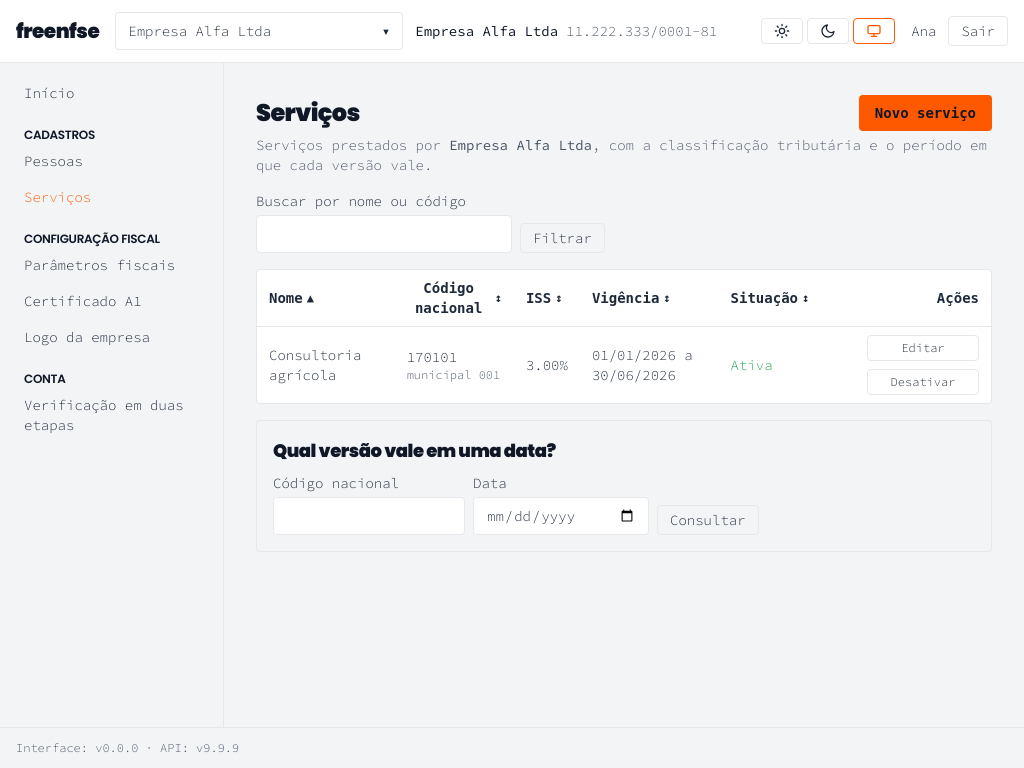
Serviços › consulta a versão vigente numa data
Expected: the text "Consultoria agrícola" is shown, left=257, top=327, right=395, bottom=403
In the field labelled "Código nacional": (369, 516) left=273, top=497, right=465, bottom=535, type "170101"
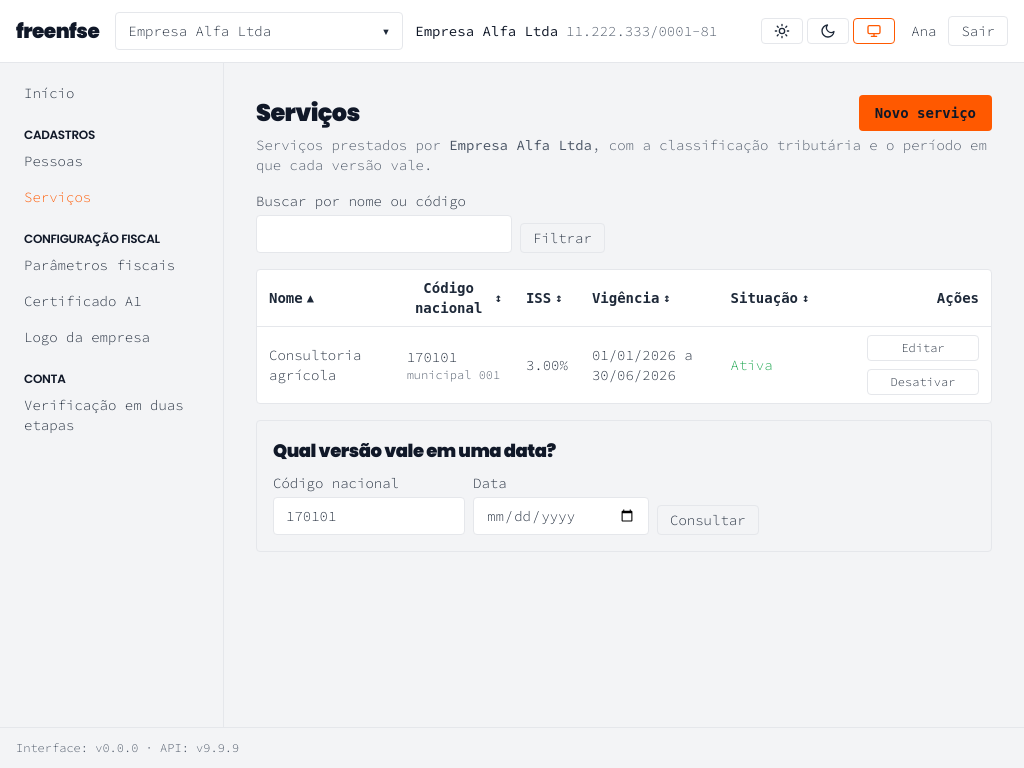
In the date field labelled "Data": (561, 516) left=473, top=497, right=649, bottom=535, type "2026-03-10"
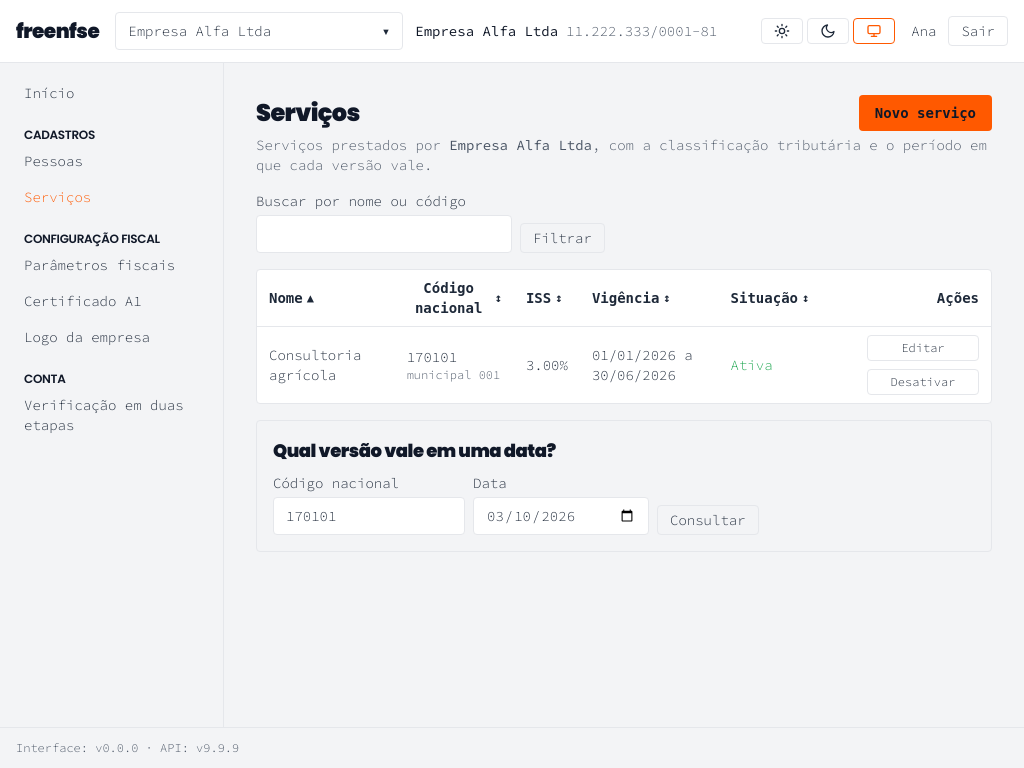
Click the button "Consultar": (708, 520) left=657, top=505, right=759, bottom=535
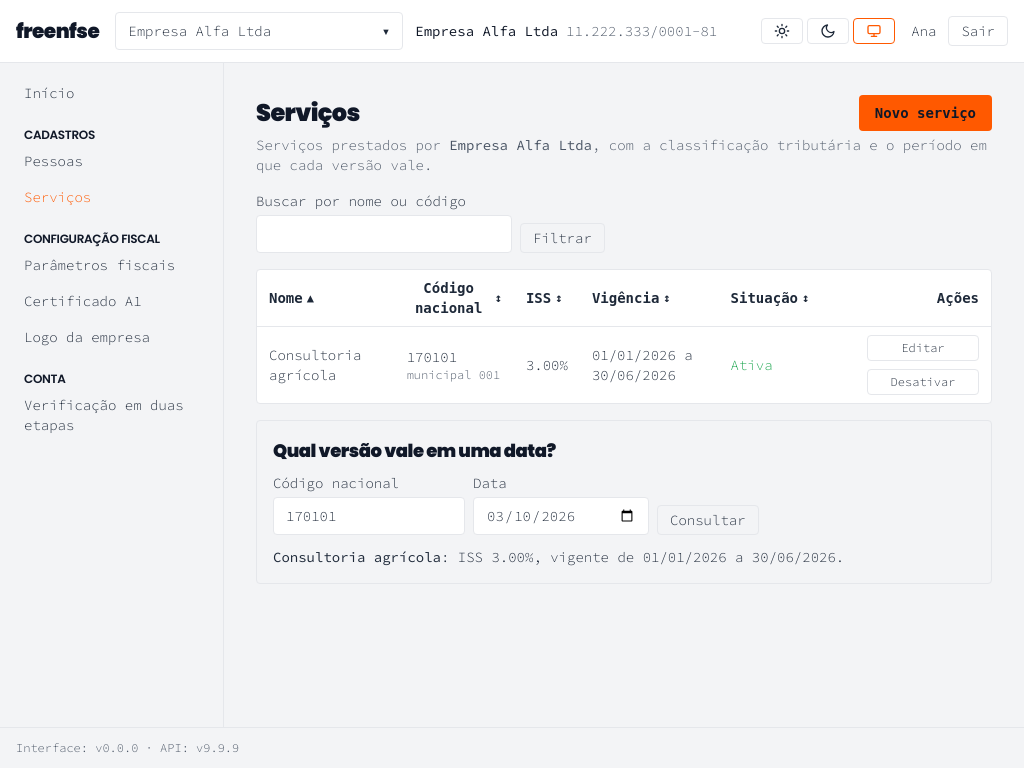
Result: the text "Consultoria agrícola: ISS 3.00%, vigente de 01/01/2026 a 30/06/2026." is shown at left=273, top=548, right=844, bottom=566
